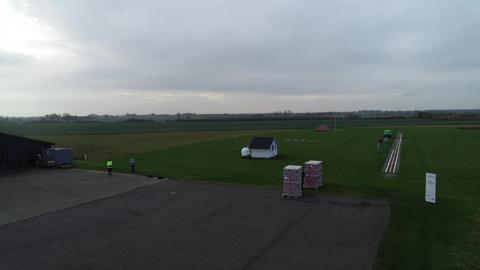RockwoolPallet: (305, 158, 324, 188)
